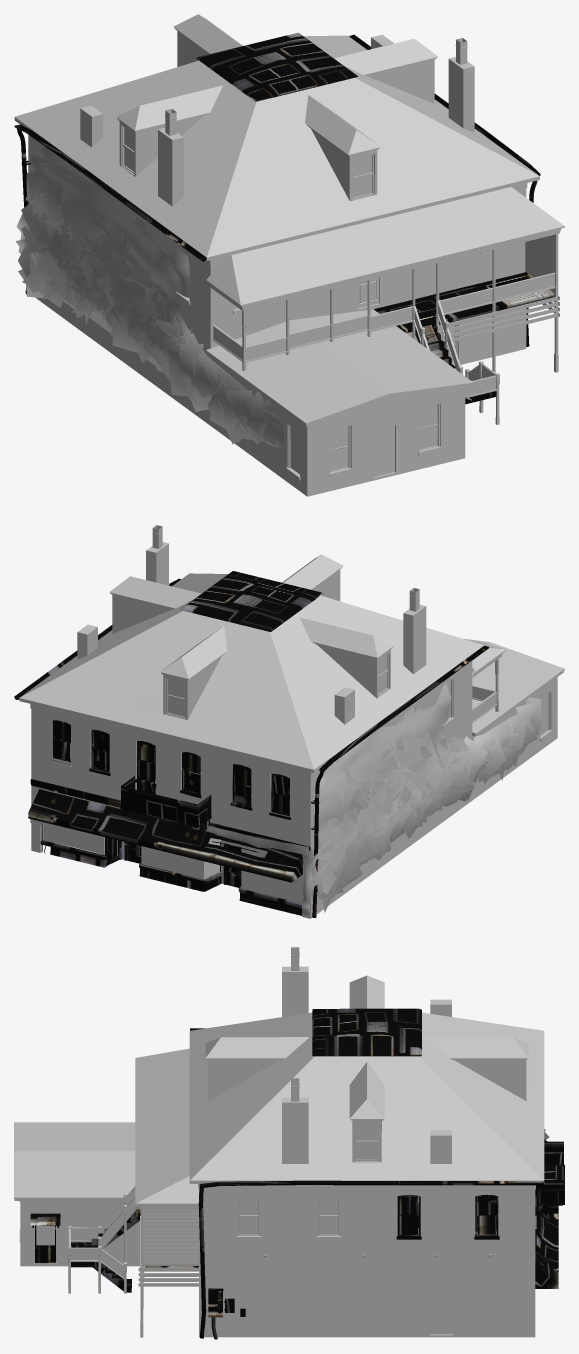
File: Iffrig_Mercantile_Building_Exterior.fbx
3 renders of one model, top to bottom at view 1: azimuth 30°, elevation 25°; view 2: azimuth 150°, elevation 25°; view 3: azimuth 270°, elevation 25°, orthographic. The views are drawn at different scales.
Visible parts, largest first — view 1: Roof_Chimney, Back_Trims, Ivy, Back_Half, Front_Trims, Porch_Slats, Front_Half, Glass_Back, Roof_Glass; view 2: Roof_Chimney, Ivy, Front_Half, Front_Trims, Awning, Back_Half, Glass_Front_Display, Glass_Front, Balcony, Back_Trims, Roof_Glass, Glass_Back (+1 smaller); view 3: Roof_Chimney, Back_Half, Front_Half, Back_Trims, Front_Trims, Glass_Back, Awning, Porch_Slats, Glass_Front, Balcony, Roof_Glass.
Boxes of the visible parts, x1,y1,x2,y2 form: Roof_Chimney: (14, 14, 539, 426); Back_Trims: (175, 187, 564, 477); Ivy: (15, 146, 291, 448); Back_Half: (118, 188, 526, 496); Front_Trims: (14, 32, 554, 404); Porch_Slats: (213, 274, 554, 396); Front_Half: (28, 135, 277, 474); Glass_Back: (188, 256, 454, 480); Roof_Glass: (124, 127, 372, 197); Roof_Chimney: (19, 525, 564, 776); Ivy: (192, 683, 542, 915); Front_Half: (31, 696, 531, 918); Front_Trims: (14, 571, 488, 917); Awning: (28, 789, 302, 882); Back_Half: (390, 661, 557, 859); Glass_Front_Display: (44, 822, 301, 903); Glass_Front: (55, 721, 289, 874); Balcony: (121, 776, 211, 834); Back_Trims: (218, 639, 506, 845); Roof_Glass: (167, 655, 387, 716); Glass_Back: (447, 681, 552, 741); Roof_Chimney: (14, 947, 544, 1200); Back_Half: (20, 1189, 369, 1337); Front_Half: (262, 1189, 535, 1337); Back_Trims: (19, 1048, 341, 1337); Front_Trims: (30, 1008, 564, 1339); Glass_Back: (36, 1196, 338, 1245); Awning: (535, 1139, 558, 1288); Porch_Slats: (71, 1188, 137, 1277); Glass_Front: (399, 1196, 496, 1234); Balcony: (535, 1141, 563, 1213); Roof_Glass: (356, 1124, 377, 1159).
Size of the model in its own units: 33.29 by 24.7 by 48.89.
